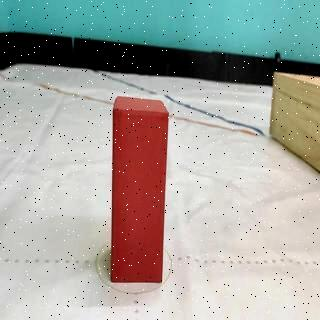redbox: (111, 95, 169, 283)
